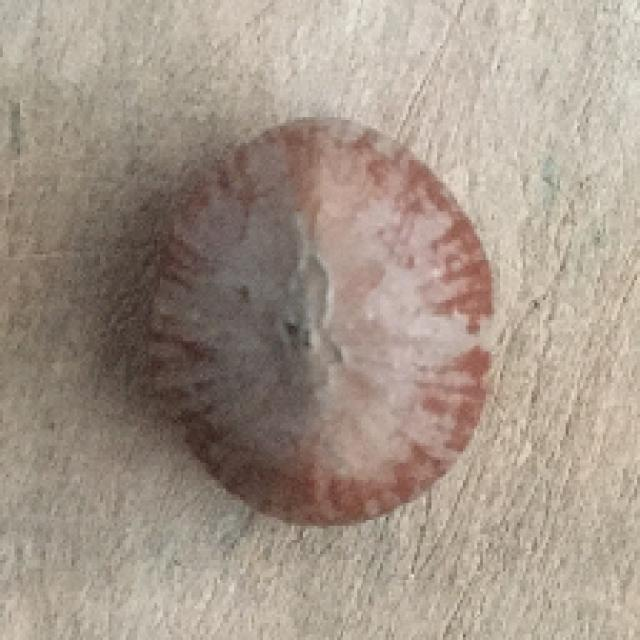qualityHazelnut: (137, 108, 490, 529)
